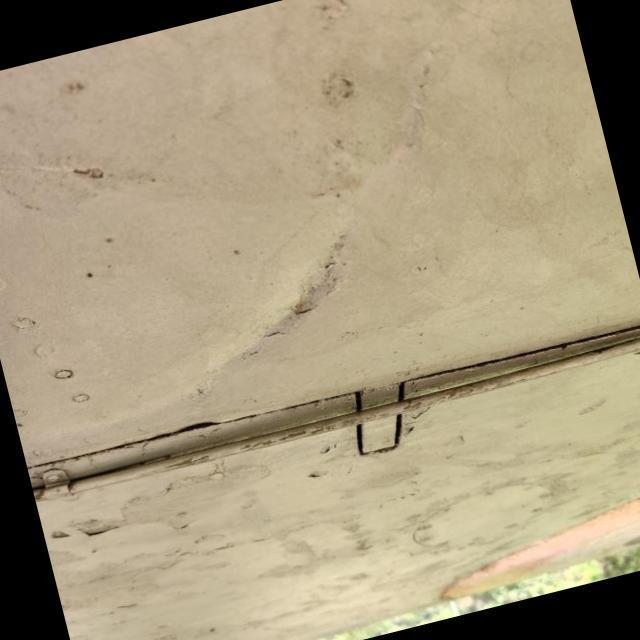Dent: (144, 156, 432, 407)
